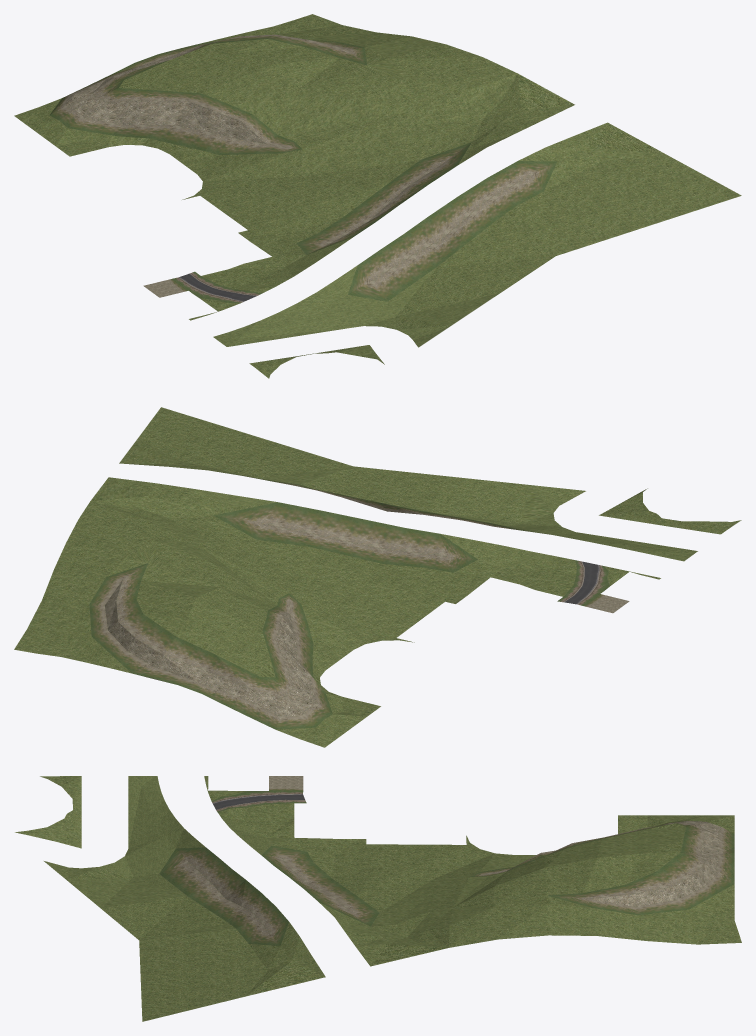
File: cunteground06.obj
The picture shows the model from 3 angles, top to bottom: view 1: azimuth 30°, elevation 25°; view 2: azimuth 150°, elevation 25°; view 3: azimuth 270°, elevation 25°; orthographic projection. The views are drawn at different scales.
Visible parts, largest first — view 1: cuntEground06; view 2: cuntEground06; view 3: cuntEground06.
Part boxes in pixels (<box>): cuntEground06: <box>14,14,741,378</box>; cuntEground06: <box>14,407,741,747</box>; cuntEground06: <box>15,776,741,1021</box>.
Size of the model in its own units: 270 by 33.68 by 312.
